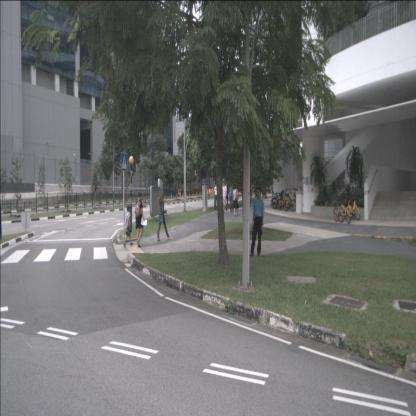barrier: (194, 188, 199, 194), (207, 189, 211, 195)
